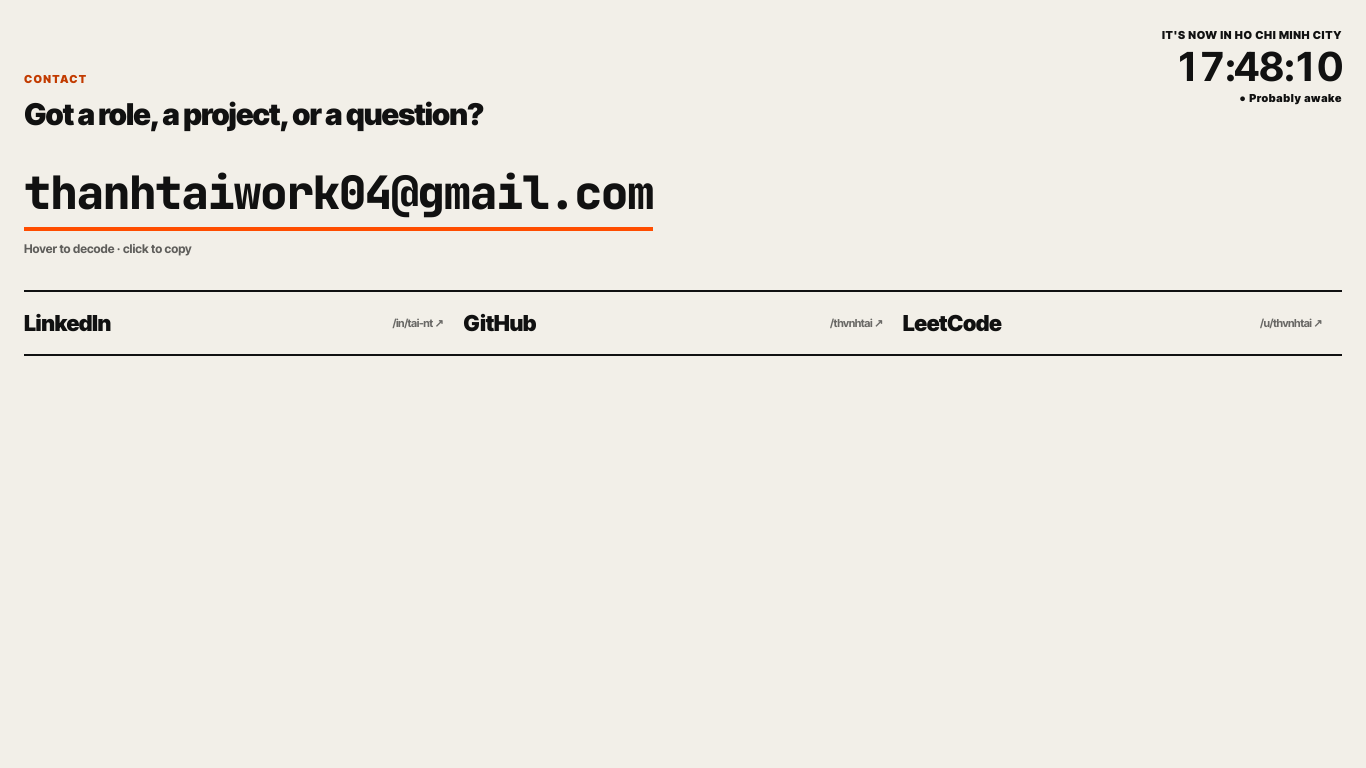
it: successful copy shows the copied toast
This screenshot has width=1366, height=768.
Click the button "thanhtaiwork04@gmail.com" at (339,196), box [24,162,653,231]
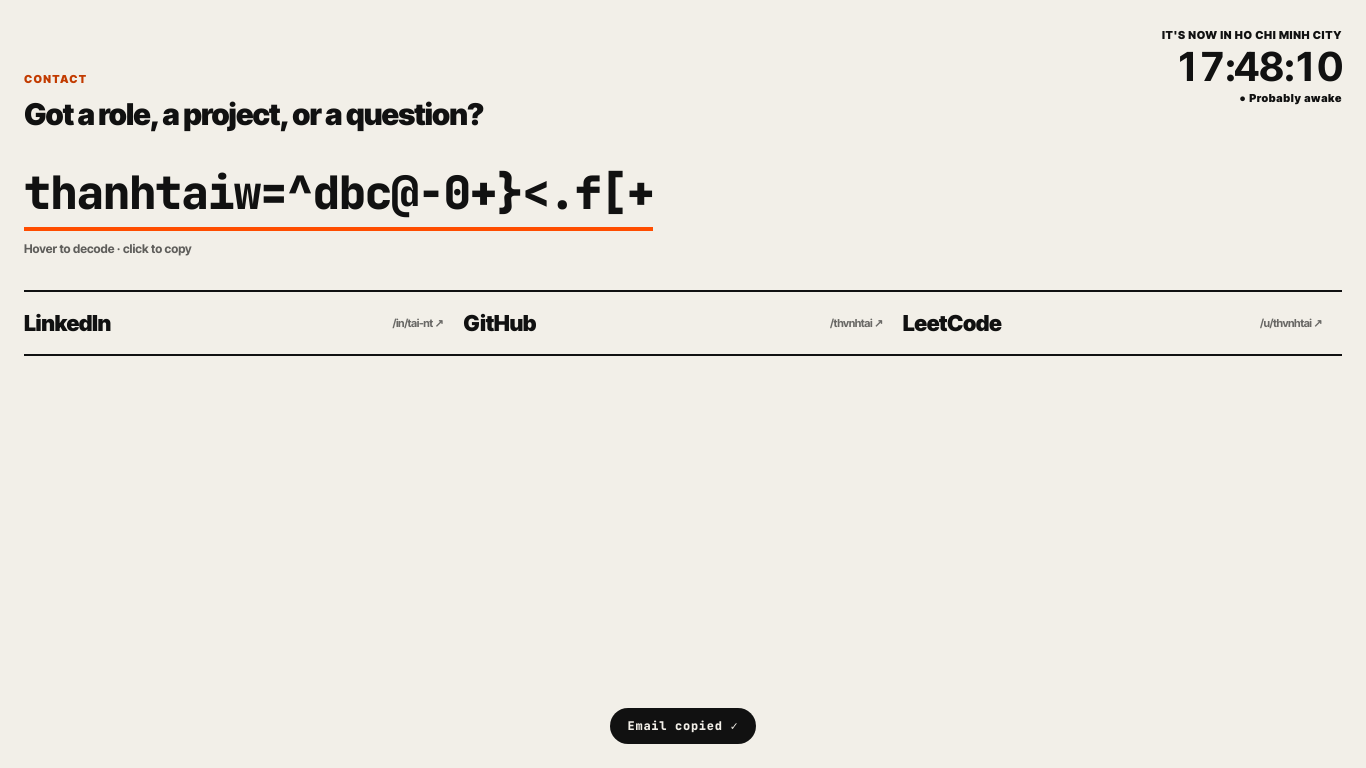
Expected: the text "Email copied ✓" is shown, [610,708,756,744]
